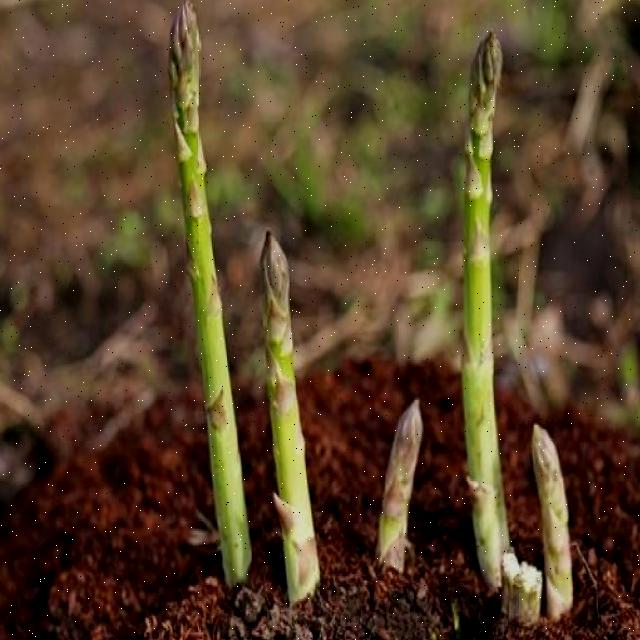aspargus: (168, 0, 249, 589), (461, 32, 508, 591), (261, 232, 319, 602)
